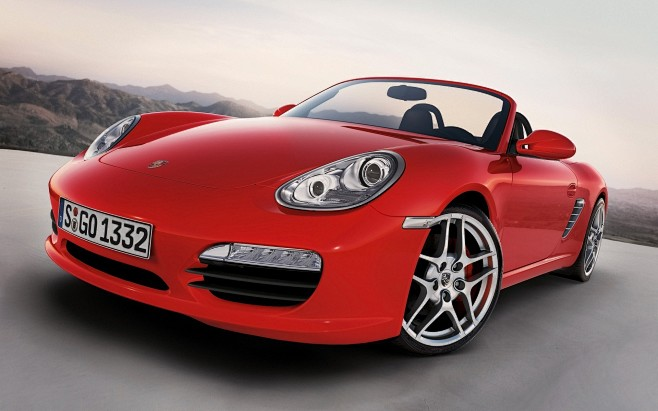other: (49, 60, 605, 351)
